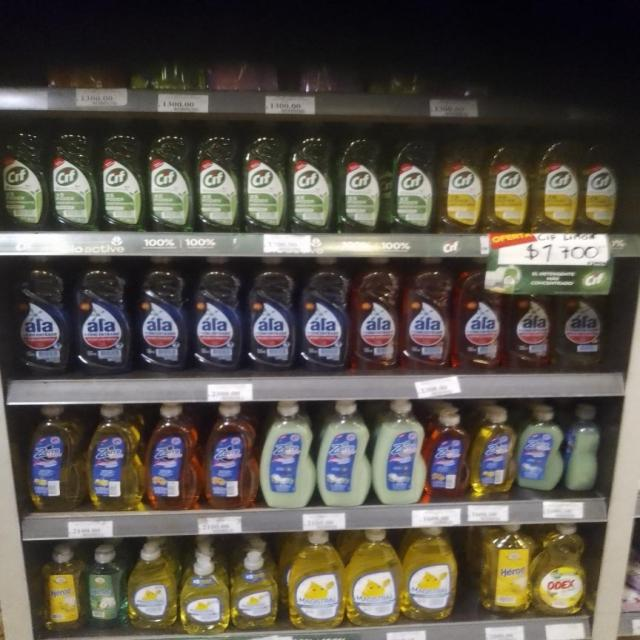ala_conc_amarillo: (554, 291, 606, 371)
ala_conc_azul: (9, 255, 70, 377), (72, 254, 132, 374), (134, 254, 189, 372), (191, 255, 244, 372), (298, 256, 351, 373), (246, 255, 297, 372)
ala_conc_rojo: (402, 256, 452, 372), (454, 257, 504, 372), (352, 256, 400, 372), (506, 263, 553, 372)
cif_conc_bot_amarilla: (533, 137, 579, 233), (439, 137, 484, 235), (486, 140, 530, 234), (581, 142, 623, 232)
cif_conc_botella_verde: (48, 124, 96, 233), (336, 127, 384, 235), (98, 123, 145, 233), (146, 122, 192, 234), (387, 132, 437, 235), (242, 123, 288, 234), (195, 122, 240, 235), (289, 124, 334, 235), (1, 125, 46, 232)
magistral_con_amarillo: (286, 530, 344, 630), (403, 526, 459, 624), (346, 528, 400, 627), (128, 546, 176, 634), (231, 551, 279, 631), (180, 554, 228, 634)
odex: (479, 522, 532, 618), (536, 522, 588, 616)
zorro: (259, 400, 314, 509), (86, 403, 141, 512), (145, 402, 199, 512), (203, 402, 256, 511), (317, 399, 370, 507), (373, 398, 425, 505), (518, 404, 562, 498), (472, 406, 515, 500), (427, 406, 469, 502)
